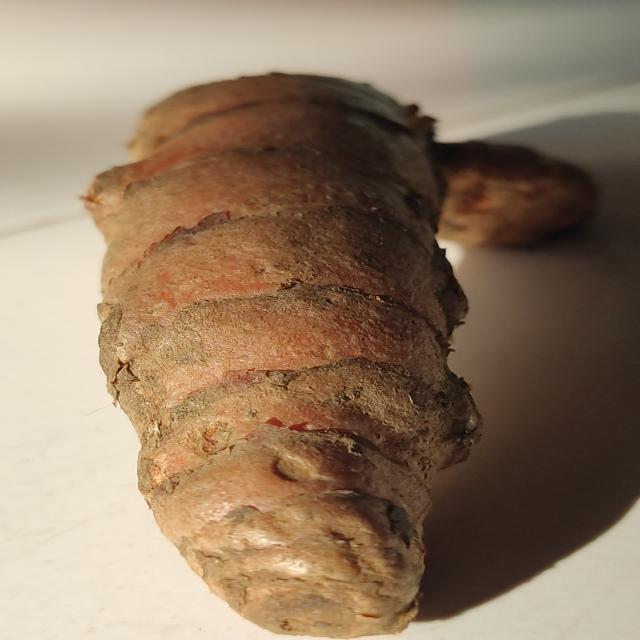ginger: (108, 74, 578, 640)
